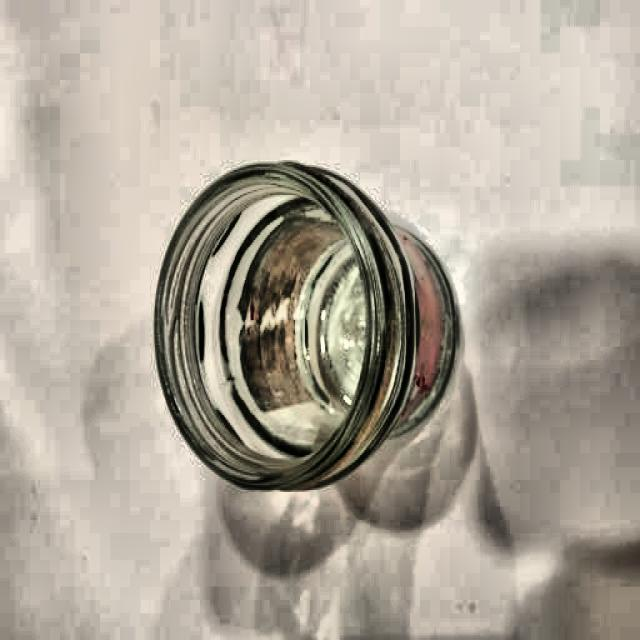glass: (147, 159, 457, 493)
